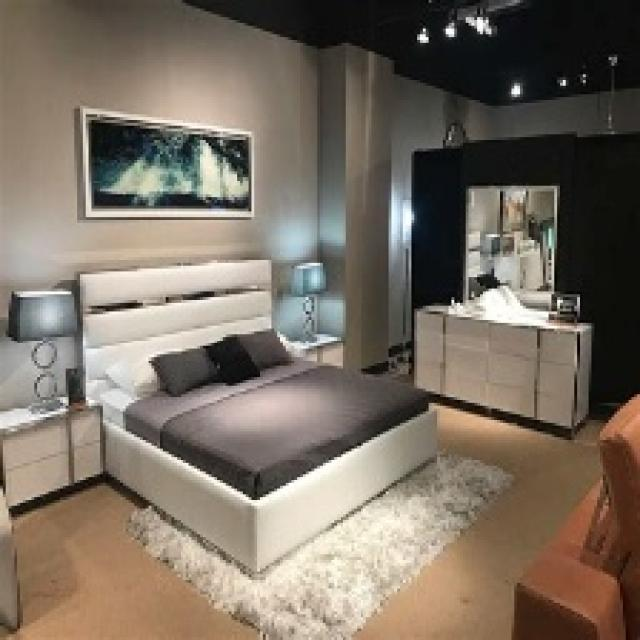Bed: (74, 257, 437, 577)
